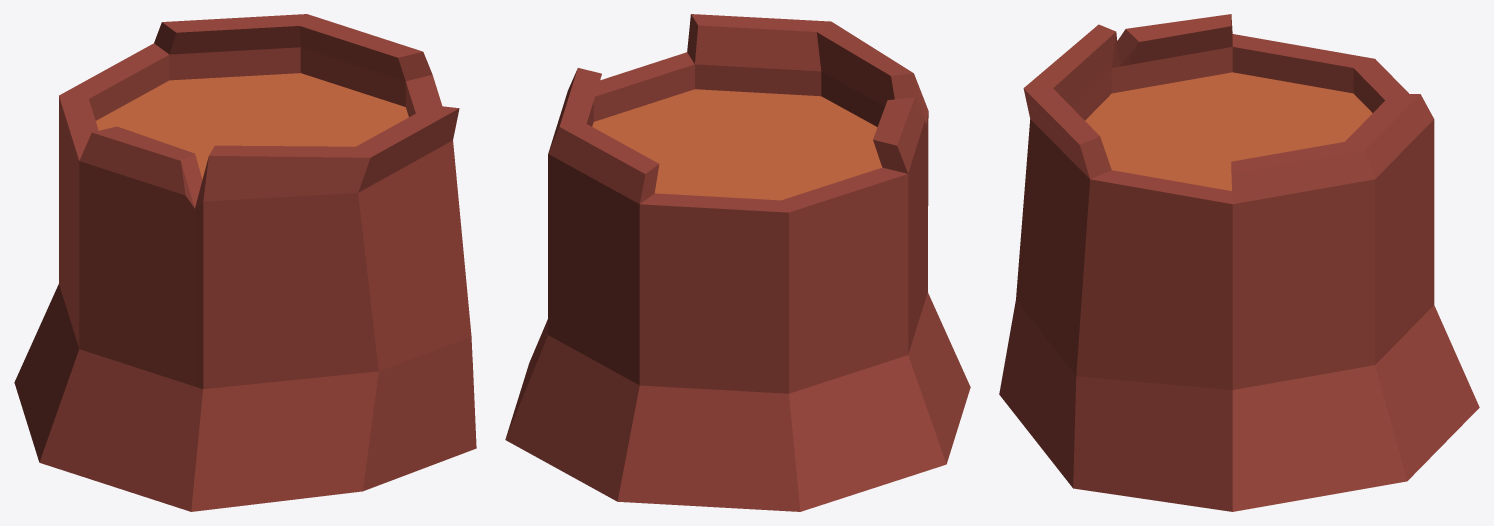
Rendered from stump.fbx.
The picture shows the model from 3 angles, left to right: view 1: azimuth 30°, elevation 25°; view 2: azimuth 150°, elevation 25°; view 3: azimuth 270°, elevation 25°; orthographic projection. The views are drawn at different scales.
Visible parts, largest first — view 1: stump; view 2: stump; view 3: stump.
Boxes of the visible parts, <box> form: stump: <box>14,14,476,511</box>; stump: <box>505,14,970,511</box>; stump: <box>999,14,1479,511</box>.
Size of the model in its own units: 265 by 202 by 258.
